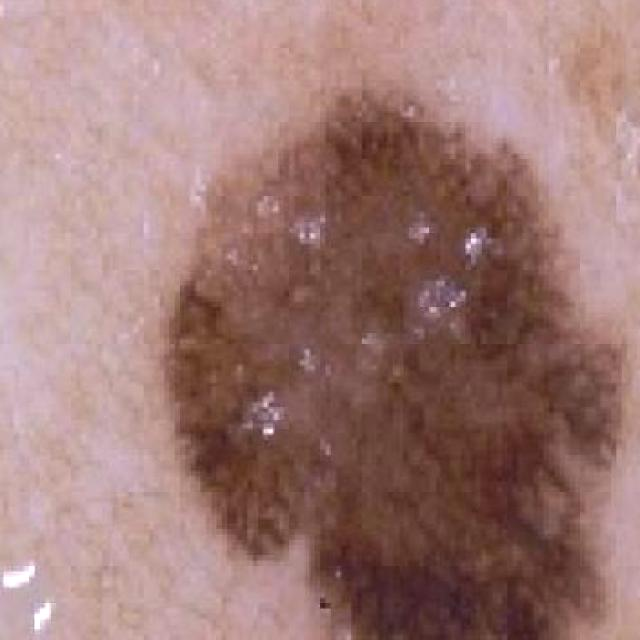MEL: (122, 27, 640, 640)
